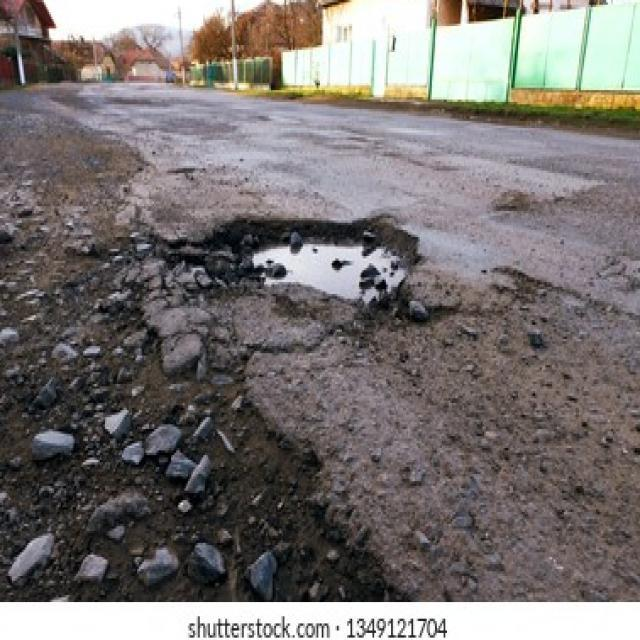Pothole: (232, 206, 425, 327)
